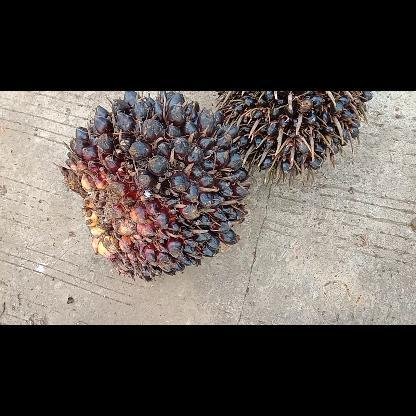TBS mentah: (53, 91, 253, 282), (210, 91, 376, 175)
